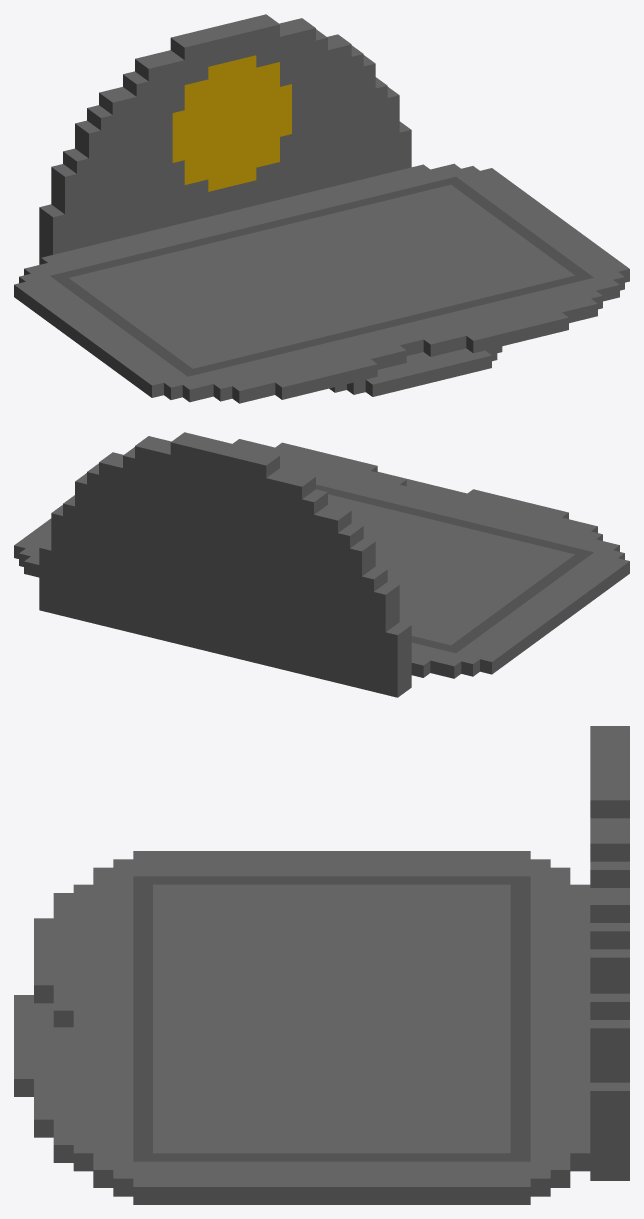
File: deliveryZone.obj
The picture shows the model from 3 angles, top to bottom: view 1: azimuth 30°, elevation 25°; view 2: azimuth 150°, elevation 25°; view 3: azimuth 270°, elevation 25°; orthographic projection. The views are drawn at different scales.
Size of the model in its own units: 4 by 1.6 by 3.1.
1 material, 1 textured.
